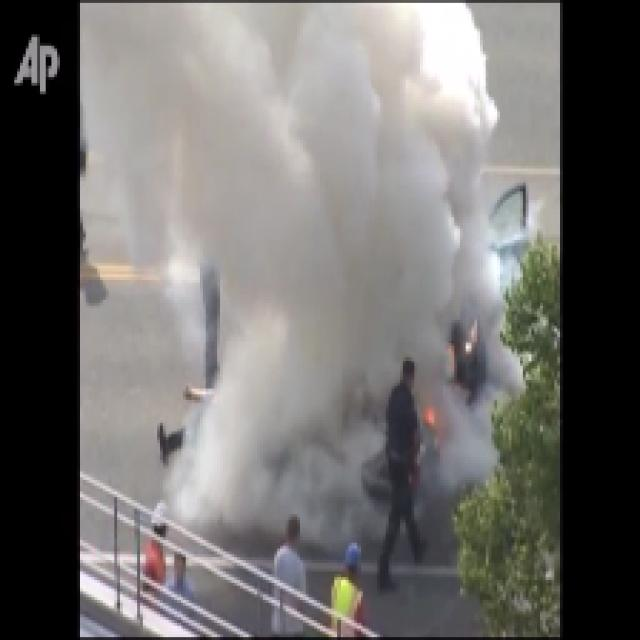smoke: (86, 6, 493, 282), (187, 285, 485, 559)
